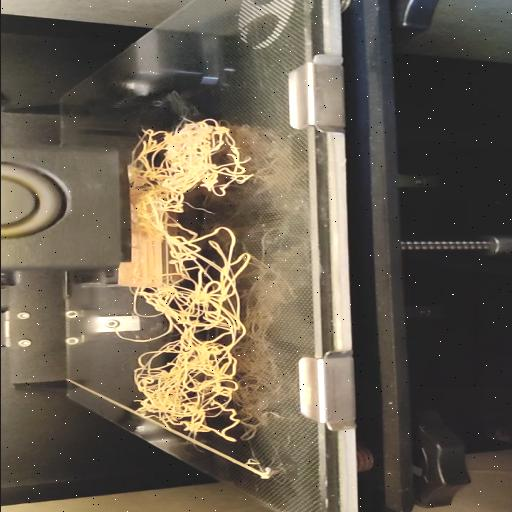spaghetti: (128, 110, 256, 438)
